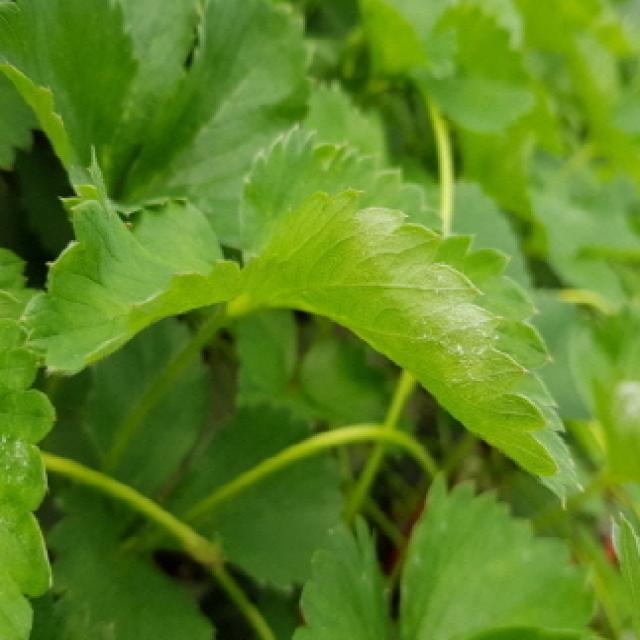Powdery Mildew Leaf: (229, 185, 583, 509), (0, 289, 59, 640)
